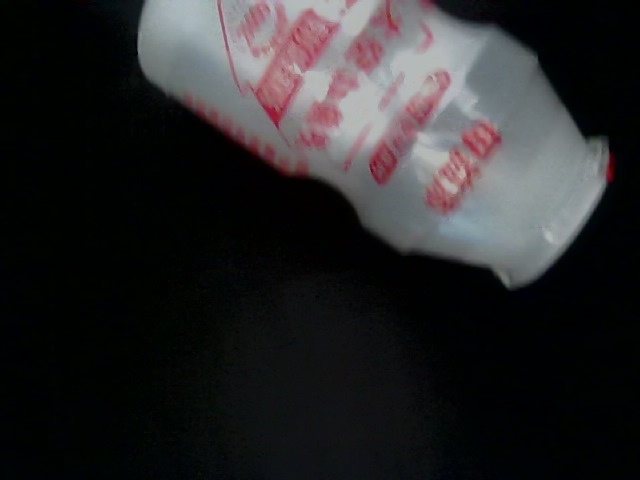CYLJ: (28, 89, 116, 198)
